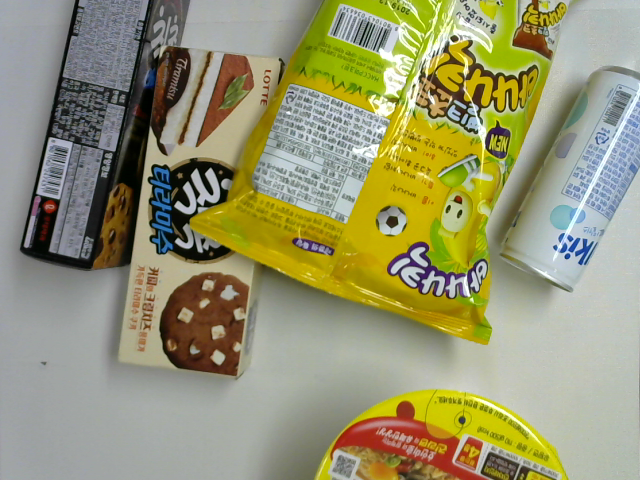Banana_Kick: (189, 1, 575, 349)
Chicchok_Original_2400: (16, 1, 192, 272)
Chicchok_Tiramisu: (111, 41, 291, 385)
Jinlamyeon_Hot_Taste_Large_Cup: (310, 381, 572, 480)
Milkies_250ml: (495, 61, 640, 298)
